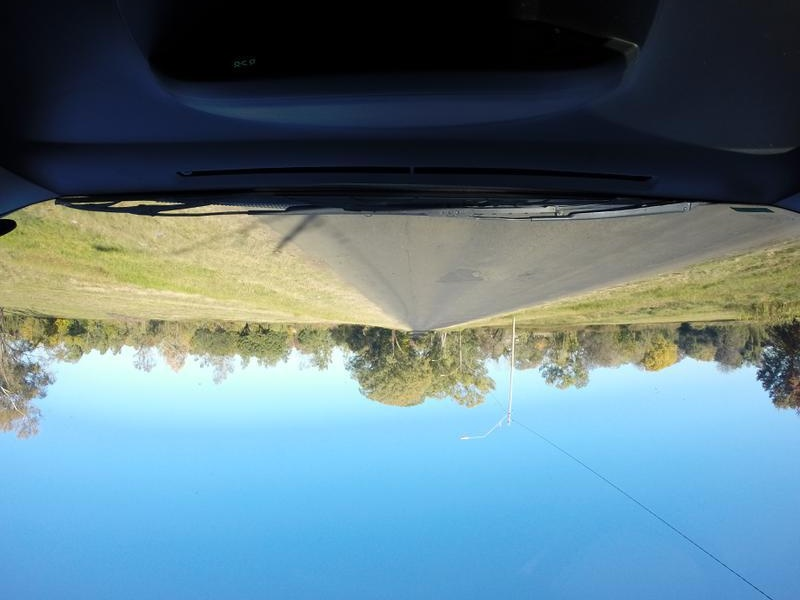pothole: (517, 262, 544, 282)
